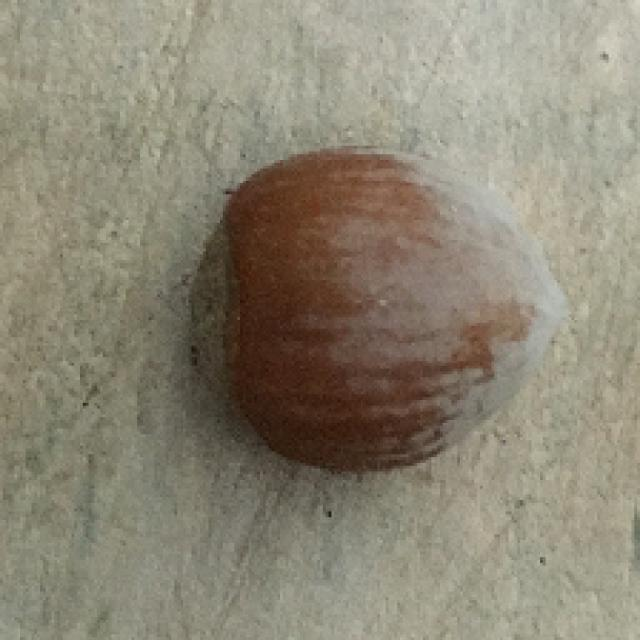qualityHazelnut: (187, 141, 577, 471)
